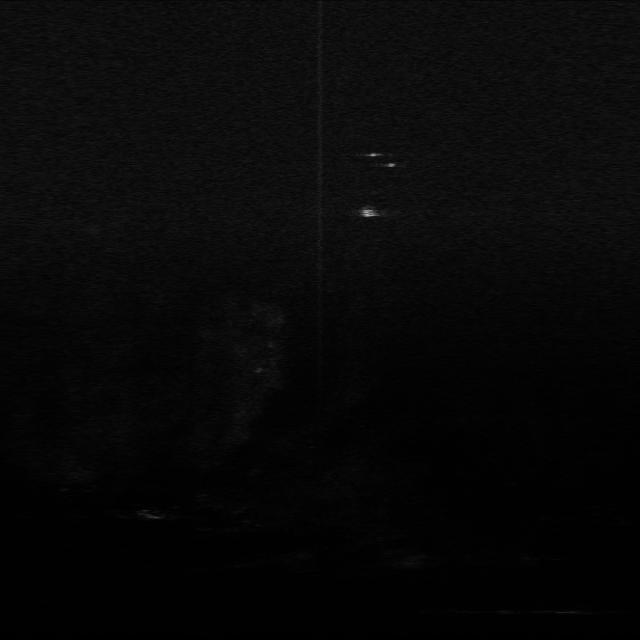rov: (357, 202, 384, 222)
